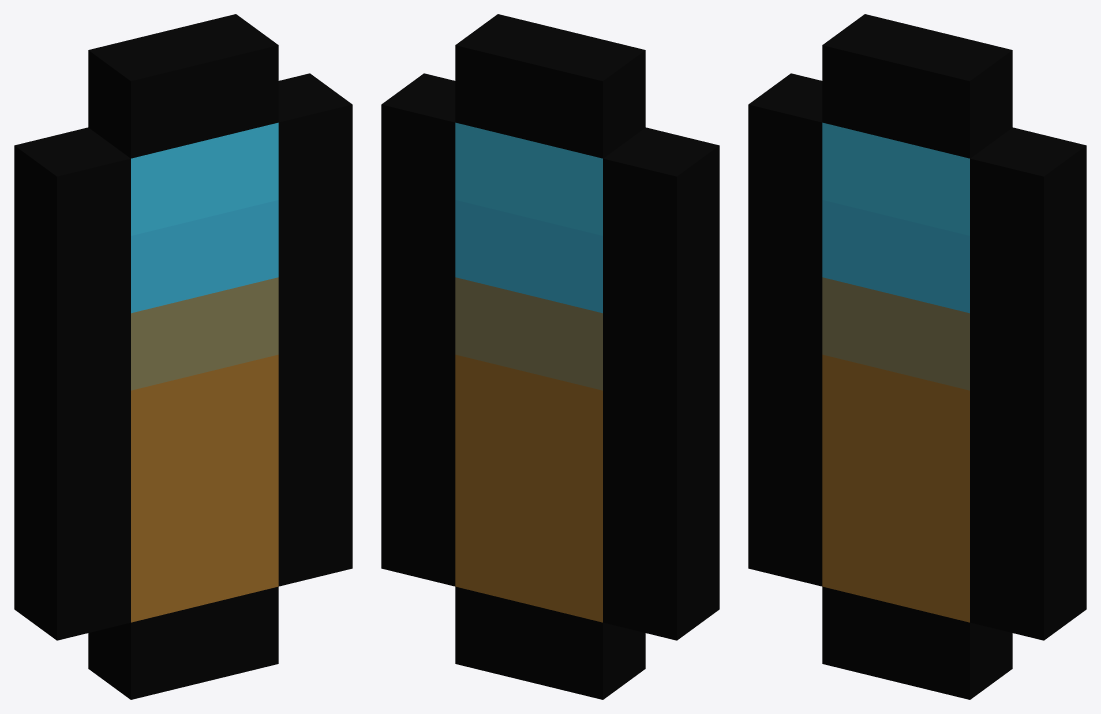
The model's file is Light Blue Torch.glb.
The picture shows the model from 3 angles, left to right: view 1: azimuth 30°, elevation 25°; view 2: azimuth 150°, elevation 25°; view 3: azimuth 330°, elevation 25°; orthographic projection.
Visible parts, largest first — view 1: generated(Clone); view 2: generated(Clone); view 3: generated(Clone).
Part boxes in pixels (<box>): generated(Clone): <box>14,14,352,699</box>; generated(Clone): <box>381,14,719,699</box>; generated(Clone): <box>748,14,1086,699</box>.
Size of the model in its own units: 4 by 8 by 1.
1 material, 1 textured.
